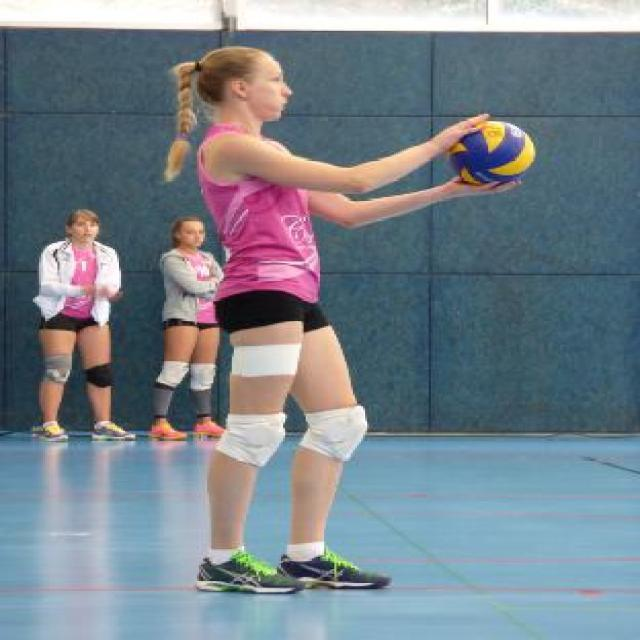volleyball: (449, 120, 535, 187)
